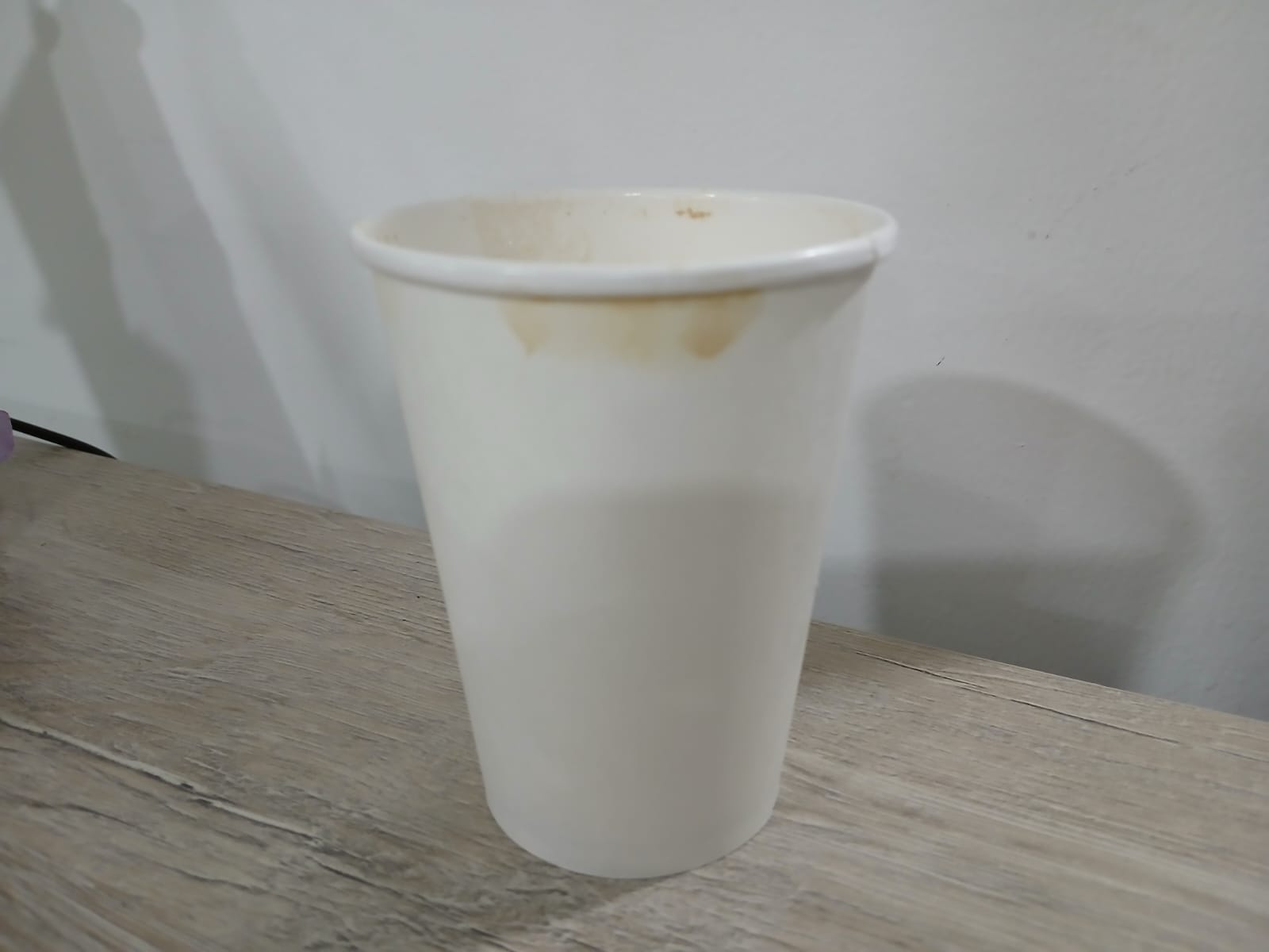Carton: (346, 189, 899, 878)
